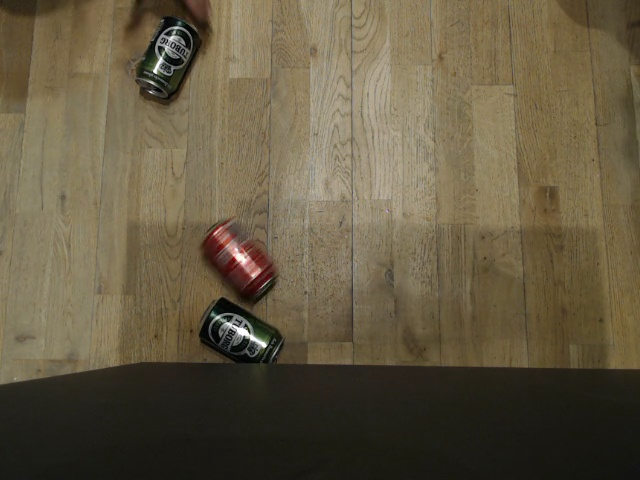beer: (193, 294, 286, 368), (194, 294, 286, 366), (133, 14, 204, 102), (131, 23, 206, 102)
cola: (195, 213, 279, 308)
